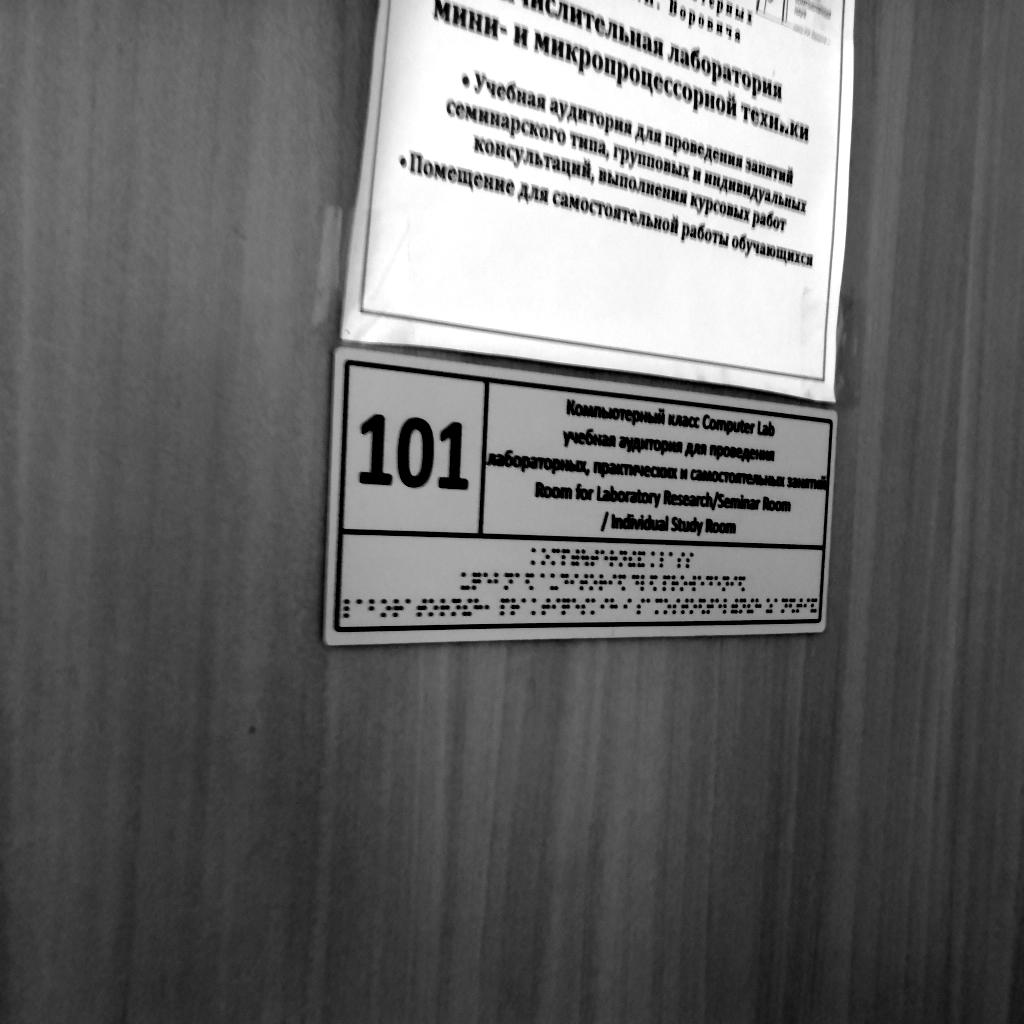_n: (503, 572, 513, 590), (452, 598, 461, 617), (620, 550, 628, 568), (739, 598, 746, 614), (781, 598, 788, 613), (723, 575, 729, 592)
_y: (460, 572, 470, 591), (550, 573, 559, 591)
a: (356, 599, 366, 618), (514, 572, 524, 590), (405, 598, 415, 616), (540, 573, 549, 591), (521, 598, 530, 615), (669, 551, 677, 569), (646, 598, 654, 615), (774, 598, 780, 614)
b: (368, 598, 380, 618), (494, 572, 503, 591)
ch: (472, 572, 481, 590), (562, 598, 570, 616)
d: (560, 573, 569, 591), (706, 575, 714, 592), (632, 575, 639, 591)
e: (482, 572, 492, 590), (600, 549, 608, 567), (572, 598, 580, 616), (714, 575, 722, 592), (715, 598, 722, 615), (697, 576, 704, 592)
i: (623, 598, 632, 616), (570, 573, 579, 590), (608, 574, 617, 590), (552, 598, 560, 616), (601, 598, 609, 616), (730, 575, 737, 592), (803, 598, 810, 614)
iKratkoe: (638, 550, 646, 568), (811, 597, 818, 614)
ii: (462, 598, 472, 617), (628, 549, 636, 568), (747, 598, 754, 613)
k: (532, 547, 541, 567), (532, 598, 541, 616), (591, 598, 600, 615), (651, 552, 659, 569)
l: (343, 599, 355, 618), (660, 551, 669, 569), (641, 574, 649, 591), (724, 598, 731, 614)
m: (551, 548, 560, 567), (655, 598, 663, 615)
myagkiy: (571, 549, 579, 567), (731, 598, 738, 614)
o: (381, 598, 391, 618), (428, 598, 438, 617), (542, 547, 551, 566), (689, 598, 697, 615), (590, 574, 598, 590), (663, 598, 671, 614), (680, 575, 687, 591)
p: (500, 597, 509, 616), (562, 548, 571, 566), (662, 575, 671, 592)
r: (393, 598, 403, 617), (440, 598, 449, 617), (599, 574, 608, 592), (511, 597, 520, 615), (610, 549, 618, 567), (672, 575, 679, 591)
s: (581, 598, 590, 616), (636, 598, 645, 615), (678, 552, 686, 569), (686, 552, 694, 569), (673, 598, 681, 615)
t: (417, 598, 427, 617), (542, 598, 551, 615), (591, 549, 599, 567), (580, 573, 588, 591), (707, 598, 715, 615), (682, 598, 689, 615), (796, 598, 803, 614)
u: (581, 548, 589, 566)
v: (688, 575, 696, 592)
x: (473, 598, 483, 617), (609, 598, 619, 616), (755, 598, 762, 613)
ya: (526, 572, 535, 591), (618, 574, 627, 592), (649, 574, 658, 591), (738, 575, 745, 592), (699, 598, 706, 614), (789, 598, 795, 613)
z: (766, 598, 773, 614)
zapyataya: (484, 598, 493, 616)
